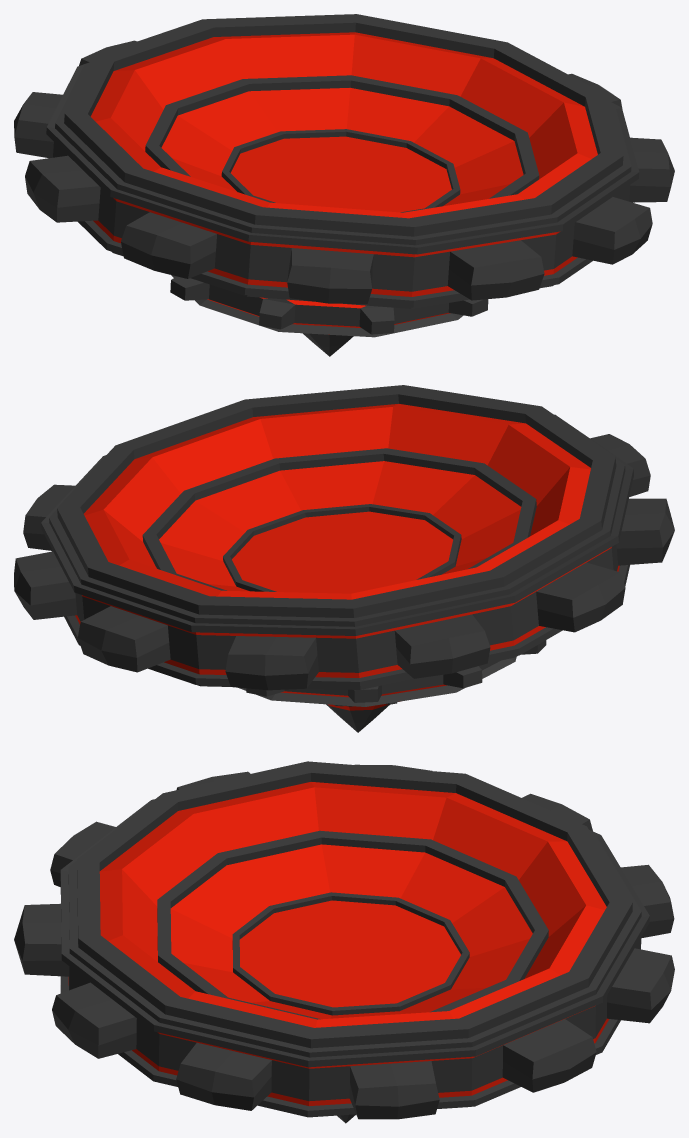
The model's file is Toupie2_Animation_ReleaseSpin.fbx.
3 renders of one model, top to bottom at view 1: azimuth 30°, elevation 25°; view 2: azimuth 150°, elevation 25°; view 3: azimuth 270°, elevation 25°, orthographic.
Parts seen in each view (by area): view 1: Cylinder.011; view 2: Cylinder.011; view 3: Cylinder.011.
Boxes of the visible parts, x1,y1,x2,y2 form: Cylinder.011: (14,14,674,356); Cylinder.011: (14,385,674,732); Cylinder.011: (14,761,674,1123).
Bounding box in the file's own units: 732 × 309 × 732.
